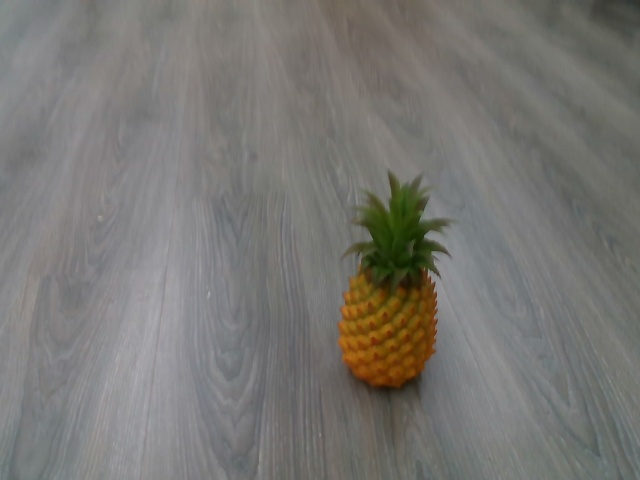pineapple: (338, 168, 455, 392)
